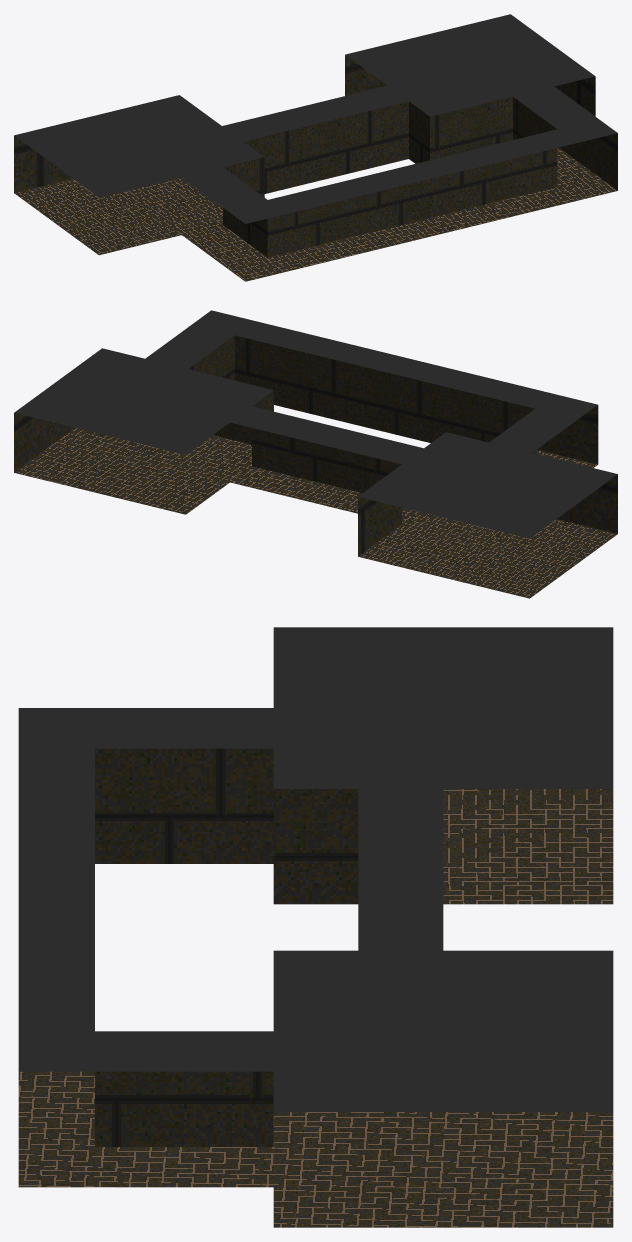
Rendered from testroom.glb.
The picture shows the model from 3 angles, top to bottom: view 1: azimuth 30°, elevation 25°; view 2: azimuth 150°, elevation 25°; view 3: azimuth 270°, elevation 25°; orthographic projection. The views are drawn at different scales.
Parts seen in each view (by area): view 1: Plane; view 2: Plane; view 3: Plane.
Part boxes in pixels (box(x1,y1,x2,y2)): Plane: box(14, 14, 617, 281); Plane: box(14, 310, 617, 598); Plane: box(18, 627, 613, 1227).
Bounding box in the file's own units: 27 × 3 × 14.
Materials: 3 (2 with a texture image).
